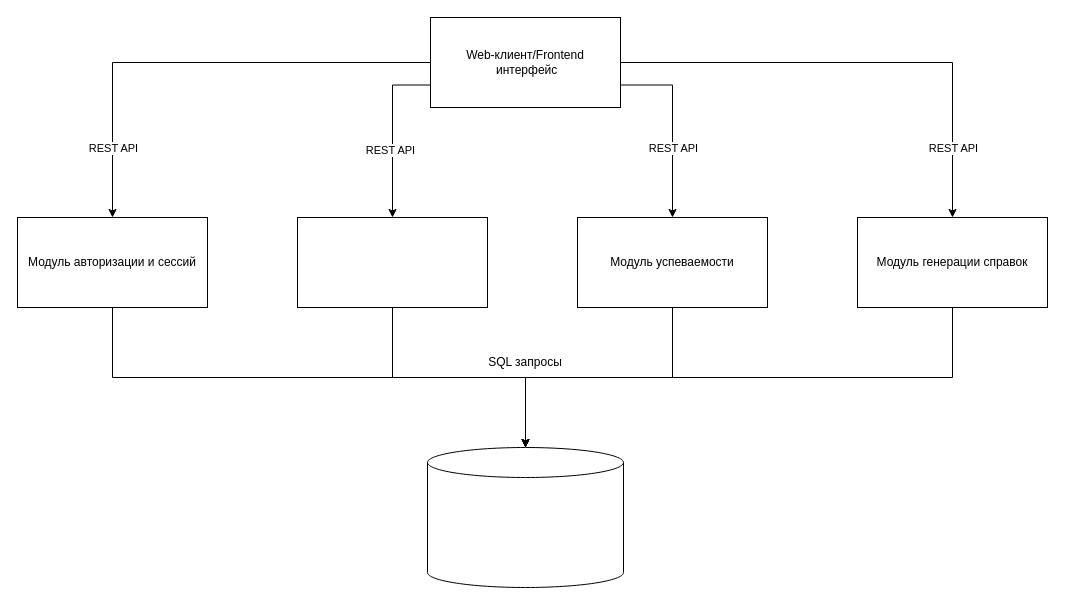
Some shapes in this 1065 by 605 pixel diagram are drawn without their labels. The shapes that lost their labels are listed below. From the top down, each one's centre as x and y in pixels, then its label:
(392,262): Менеджер расписания
(525,517): База данных PostgreSQL
